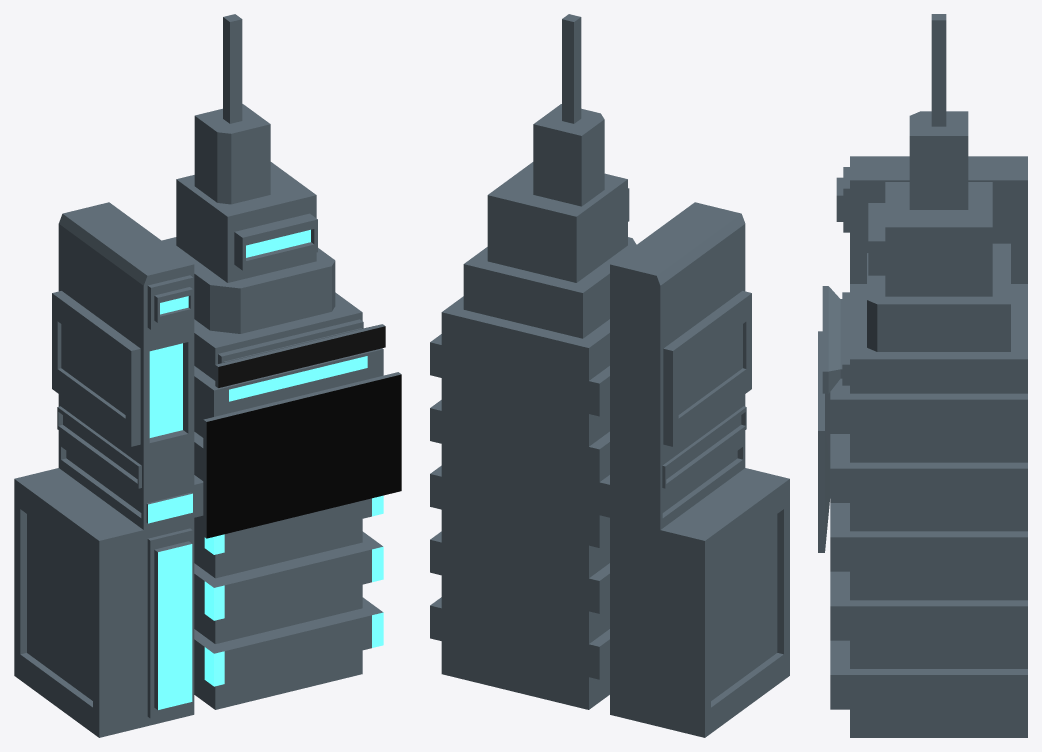
The model's file is BuildingLeft.glb.
3 views of the same model, side by side, from view 1: azimuth 30°, elevation 25°; view 2: azimuth 150°, elevation 25°; view 3: azimuth 270°, elevation 25° (orthographic). The views are drawn at different scales.
Parts seen in each view (by area): view 1: Cube; view 2: Cube; view 3: Cube.
Boxes of the visible parts, <box> form: Cube: <box>14,14,401,737</box>; Cube: <box>430,14,789,737</box>; Cube: <box>818,14,1027,737</box>.
Bounding box in the file's own units: 16.08 × 34.58 × 9.72.
